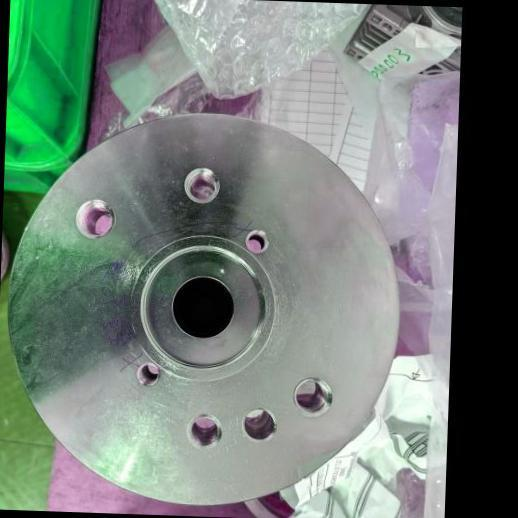hole: (68, 192, 119, 247), (172, 157, 224, 209), (177, 406, 228, 454), (286, 372, 336, 419), (234, 400, 280, 446), (237, 224, 276, 258), (130, 356, 162, 390)
